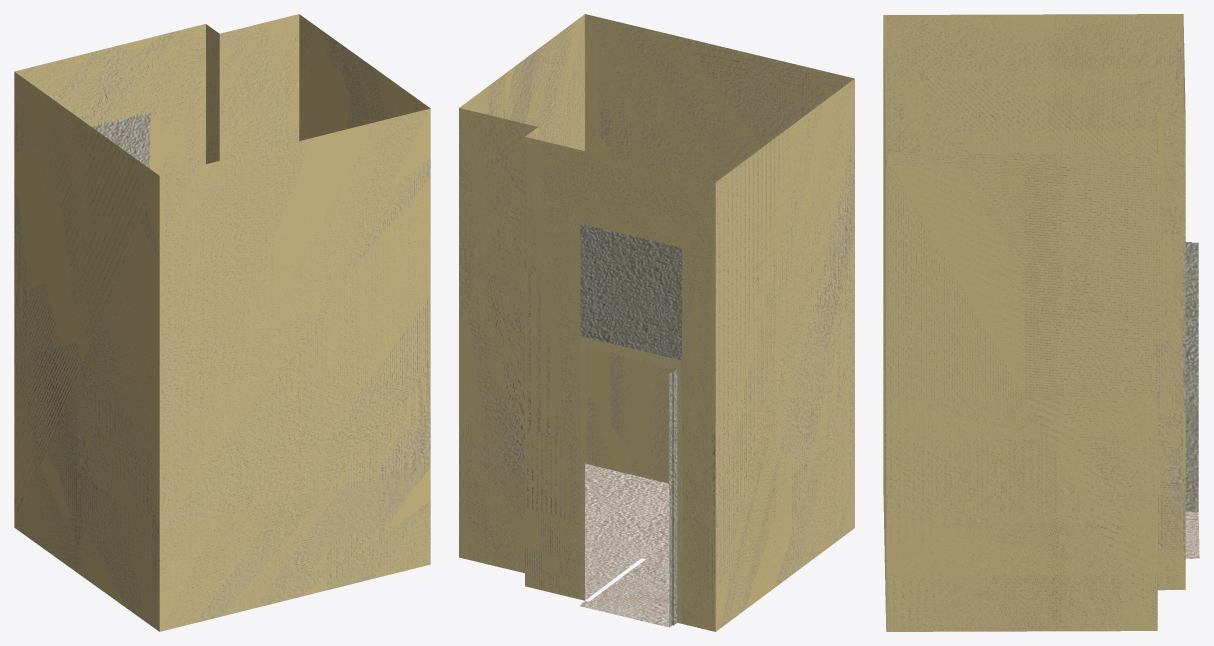
The model's file is CUA002.obj.
3 views of the same model, side by side, from view 1: azimuth 30°, elevation 25°; view 2: azimuth 150°, elevation 25°; view 3: azimuth 270°, elevation 25° (orthographic). The views are drawn at different scales.
Visible parts, largest first — view 1: Mesh1 CUA002 Model; view 2: Mesh1 CUA002 Model; view 3: Mesh1 CUA002 Model.
Boxes of the visible parts, x1,y1,x2,y2 form: Mesh1 CUA002 Model: (14,14,430,631); Mesh1 CUA002 Model: (459,14,854,631); Mesh1 CUA002 Model: (883,14,1199,631).
Bounding box in the file's own units: 2.27 × 3.6 × 2.16.
Materials: 5 (2 with a texture image).
